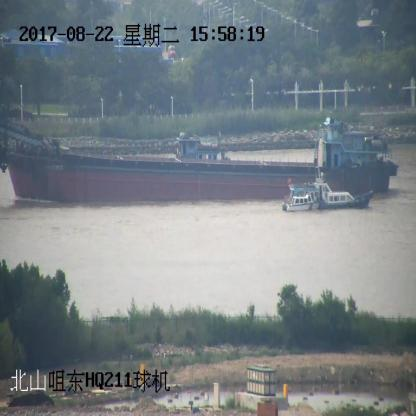Bulk Carrier: (0, 112, 397, 202)
